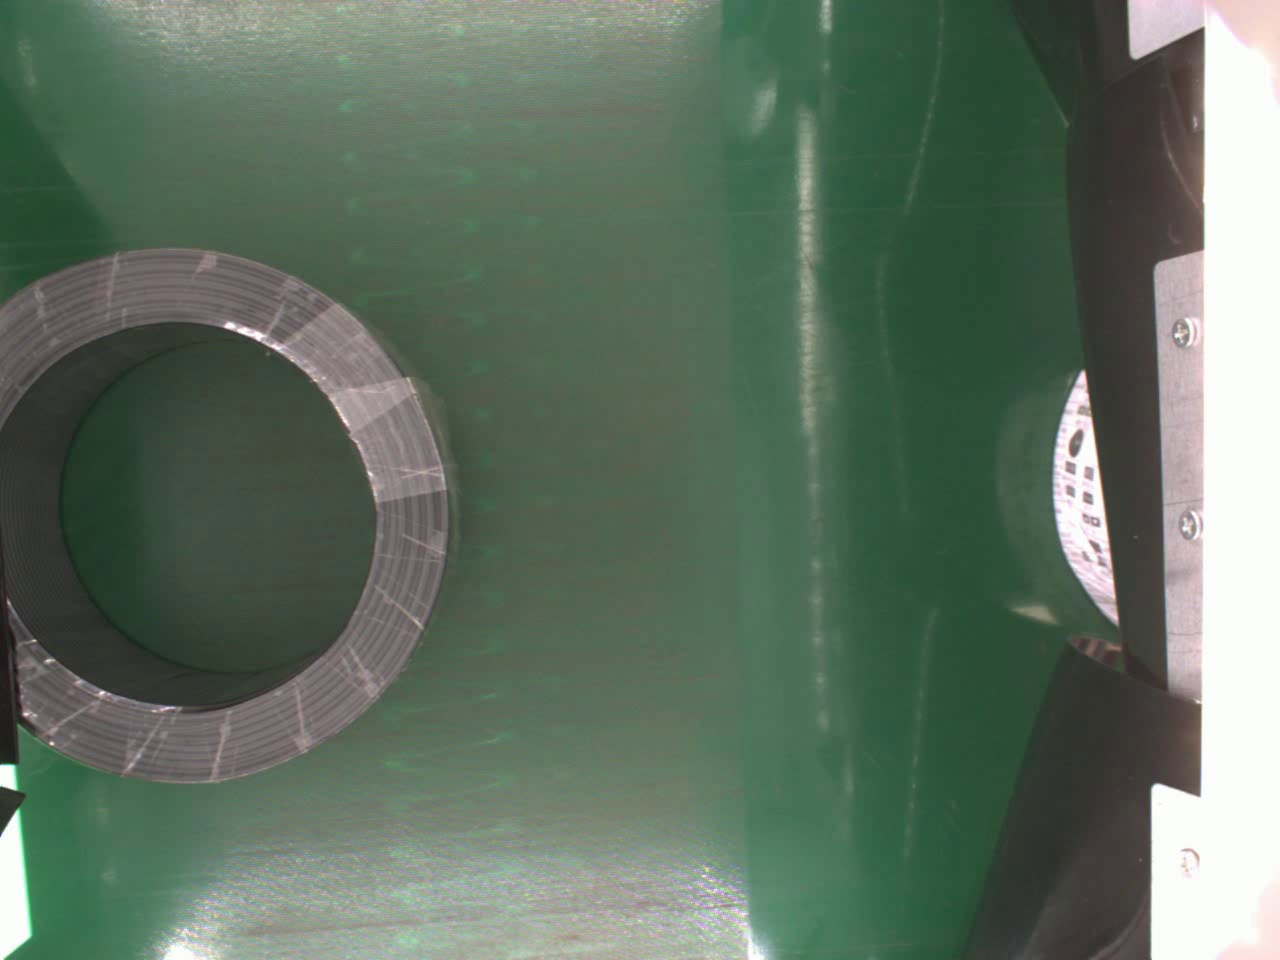black: (0, 244, 456, 786)
